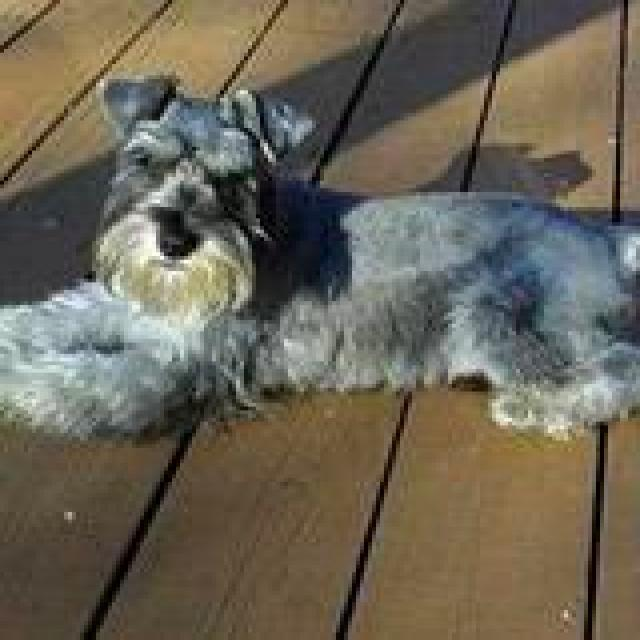standard_schnauzer: (4, 72, 624, 448)
